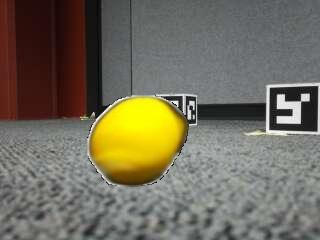lemon: (89, 98, 186, 185)
